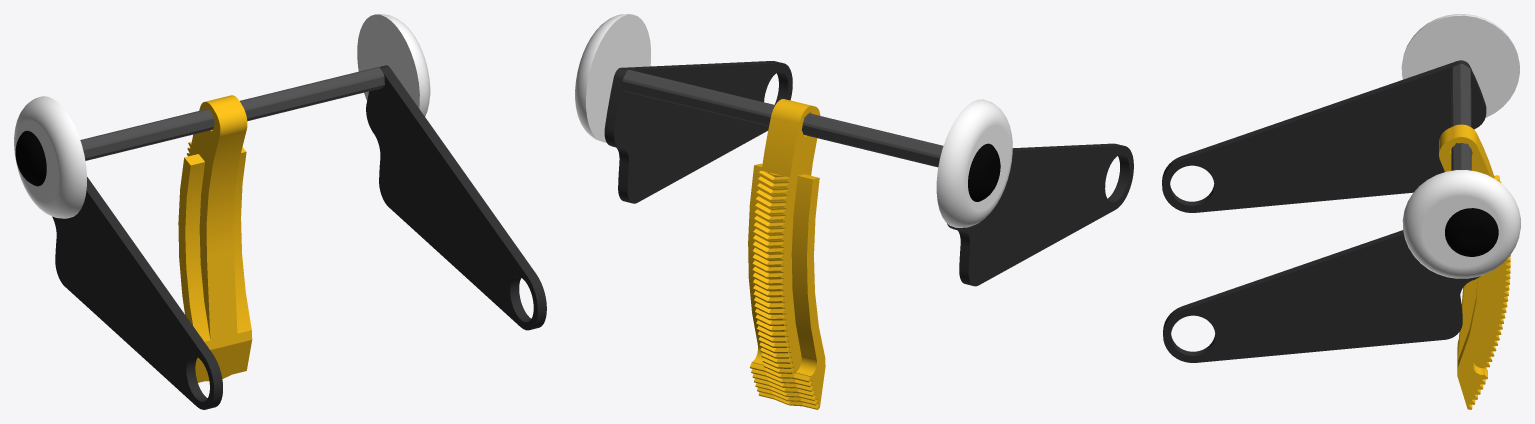
The picture shows the model from 3 angles, left to right: view 1: azimuth 30°, elevation 25°; view 2: azimuth 150°, elevation 25°; view 3: azimuth 270°, elevation 25°; orthographic projection. The views are drawn at different scales.
Visible parts, largest first — view 1: Part 26 (×2), Spur gear (320 teeth), Googly Eye (×2), 1/2" ThunderHex (8.735 in); view 2: Part 26 (×2), Spur gear (320 teeth), Googly Eye (×2), 1/2" ThunderHex (8.735 in); view 3: Part 26 (×2), Googly Eye (×2), Spur gear (320 teeth), 1/2" ThunderHex (8.735 in).
Part boxes in pixels (x1,y1,x2,y2): Part 26 (×2): (52,65,546,409); Spur gear (320 teeth): (178,95,252,382); Googly Eye (×2): (14,14,430,218); 1/2" ThunderHex (8.735 in): (80,67,384,160); Part 26 (×2): (604,61,1133,286); Spur gear (320 teeth): (748,99,825,409); Googly Eye (×2): (575,14,1012,227); 1/2" ThunderHex (8.735 in): (622,70,943,167); Part 26 (×2): (1162,60,1486,362); Googly Eye (×2): (1401,14,1520,278); Spur gear (320 teeth): (1439,124,1510,409); 1/2" ThunderHex (8.735 in): (1450,63,1471,170).
Size of the model in its own units: 0.2727 by 0.2179 by 0.2308.
